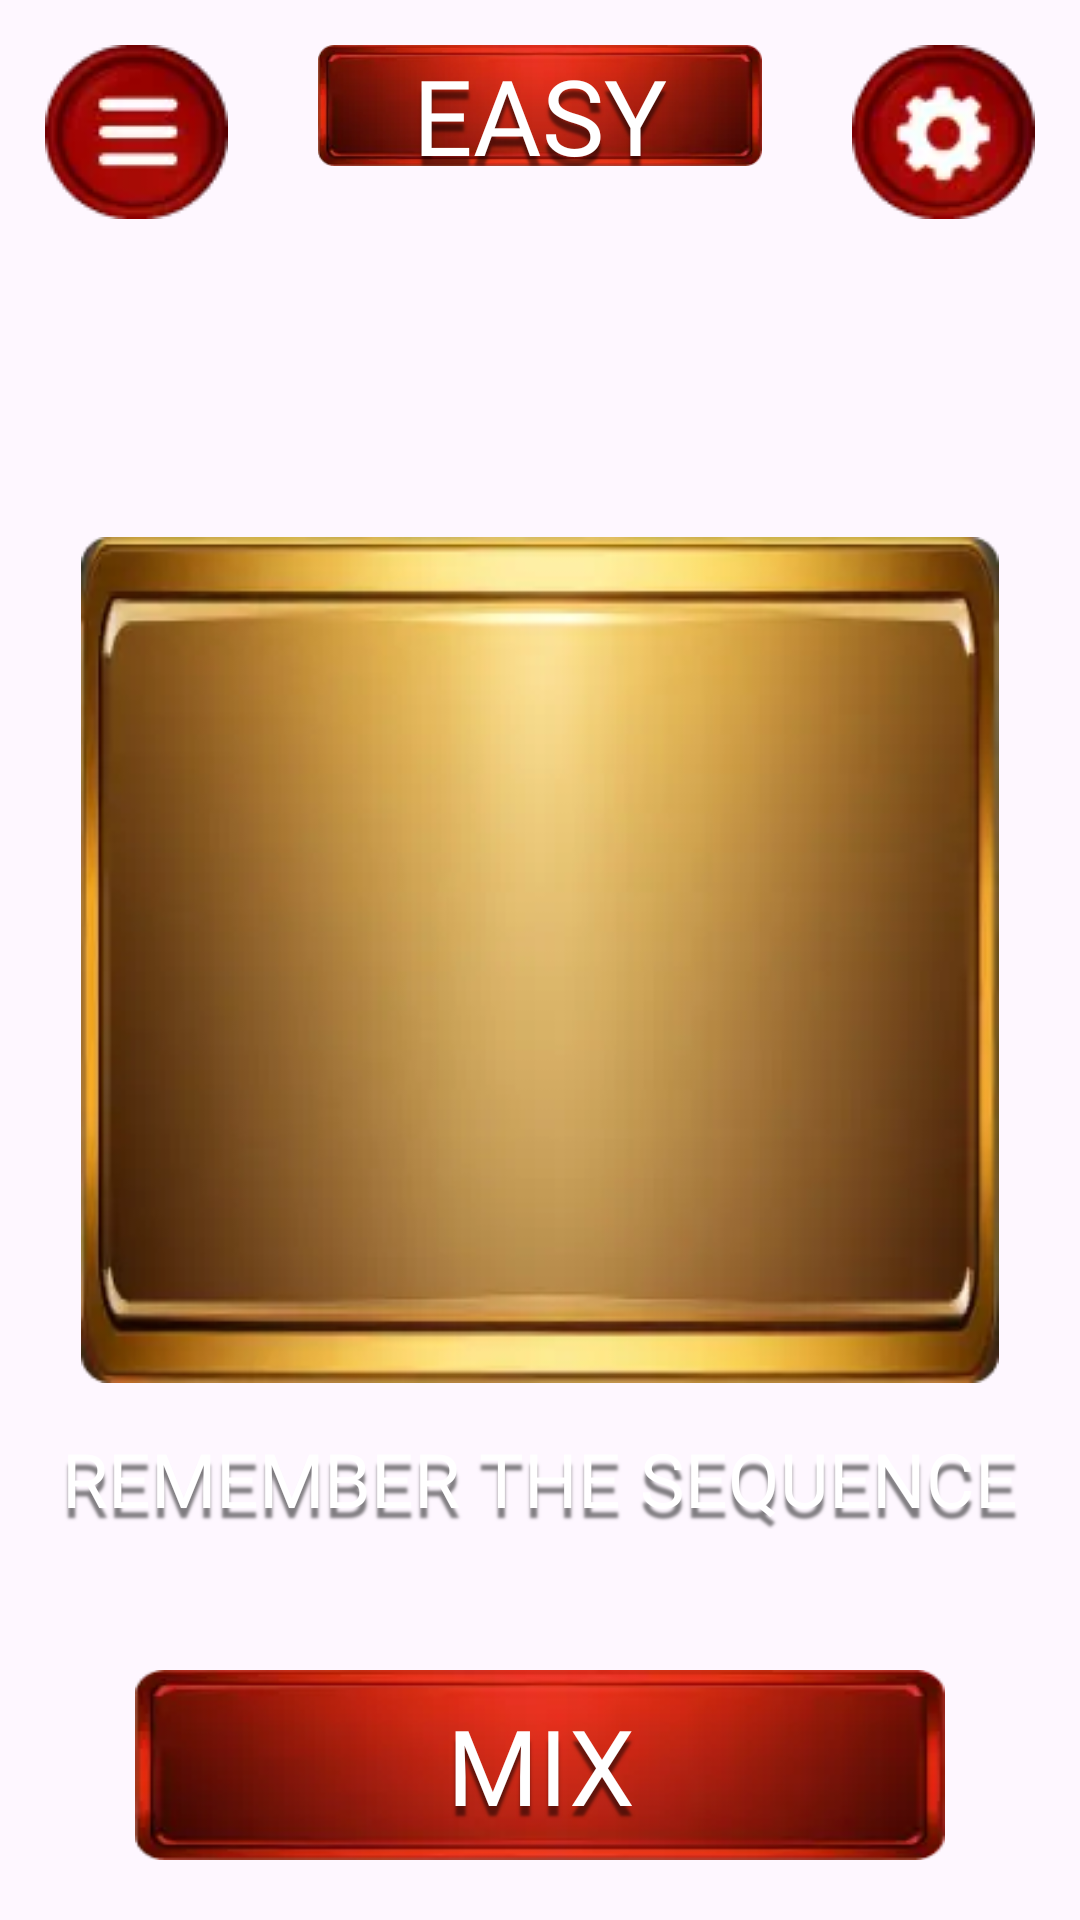

Icons on this 1080px x 1920px Android screen, each with the point to tap as (x=x, y=y):
chose lvl: (x=136, y=132)
settings: (x=943, y=132)
